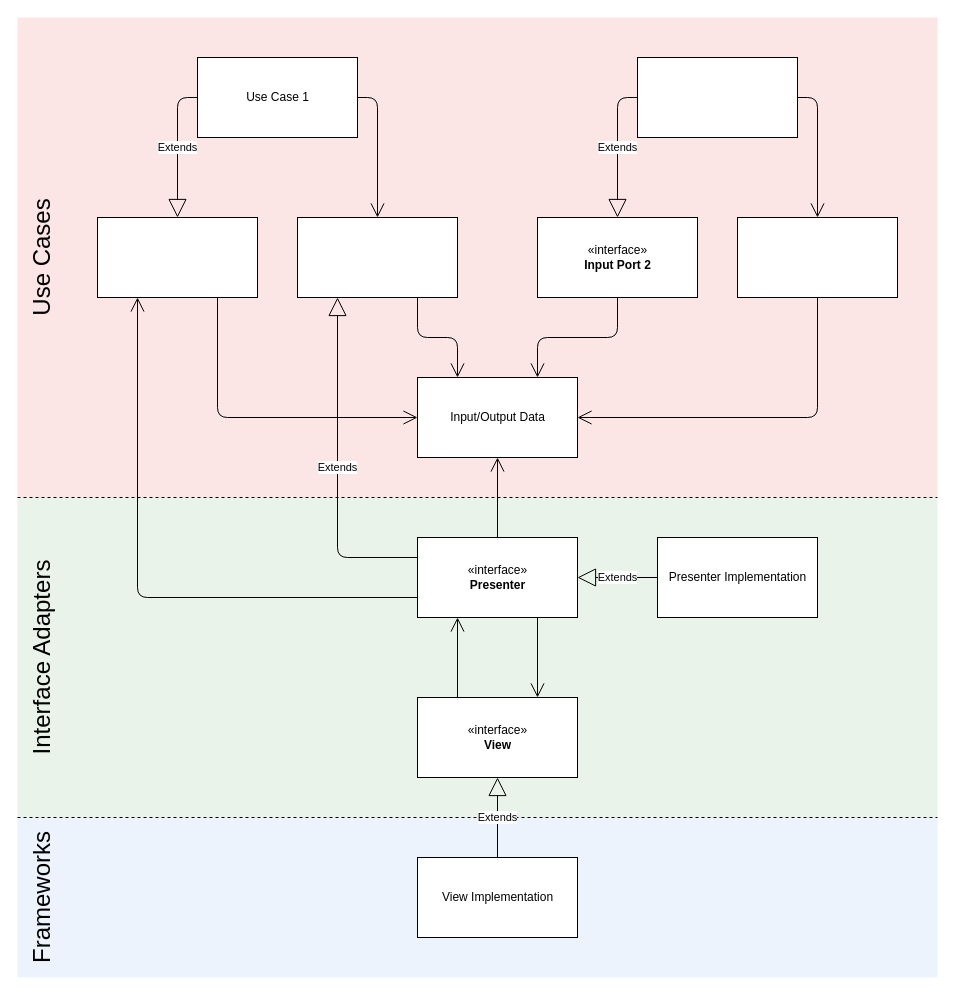
Some shapes in this 956 by 994 pixel diagram are drawn without their labels. Here are the shapes that lost their labels. From the top down, the centre of each, then its label:
At point (717, 97): "Use Case 2".
At point (177, 257): "«interface» Input Port 1".
At point (377, 257): "«interface» Output Port 1".
At point (817, 257): "«interface» Output Port 2".
